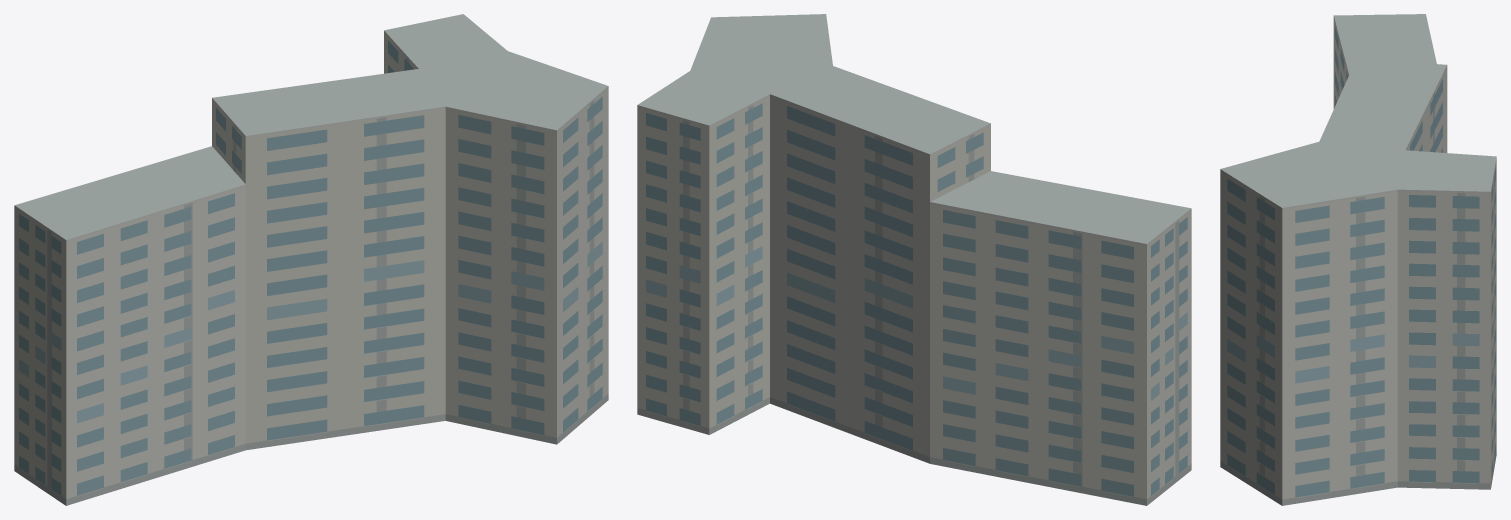
The model's file is residential-caa2bf44-e8c2-412f-9c6a-ba4c6ae02415.glb.
The picture shows the model from 3 angles, left to right: view 1: azimuth 30°, elevation 25°; view 2: azimuth 150°, elevation 25°; view 3: azimuth 270°, elevation 25°; orthographic projection. The views are drawn at different scales.
Parts seen in each view (by area): view 1: residential-caa2bf44-e8c2-412f-9c6a-ba4c6ae02415.tmp; view 2: residential-caa2bf44-e8c2-412f-9c6a-ba4c6ae02415.tmp; view 3: residential-caa2bf44-e8c2-412f-9c6a-ba4c6ae02415.tmp.
Part boxes in pixels (<box>): residential-caa2bf44-e8c2-412f-9c6a-ba4c6ae02415.tmp: <box>14,14,608,505</box>; residential-caa2bf44-e8c2-412f-9c6a-ba4c6ae02415.tmp: <box>637,14,1191,505</box>; residential-caa2bf44-e8c2-412f-9c6a-ba4c6ae02415.tmp: <box>1220,14,1496,505</box>.
Bounding box in the file's own units: 68.45 × 39.65 × 33.35.
